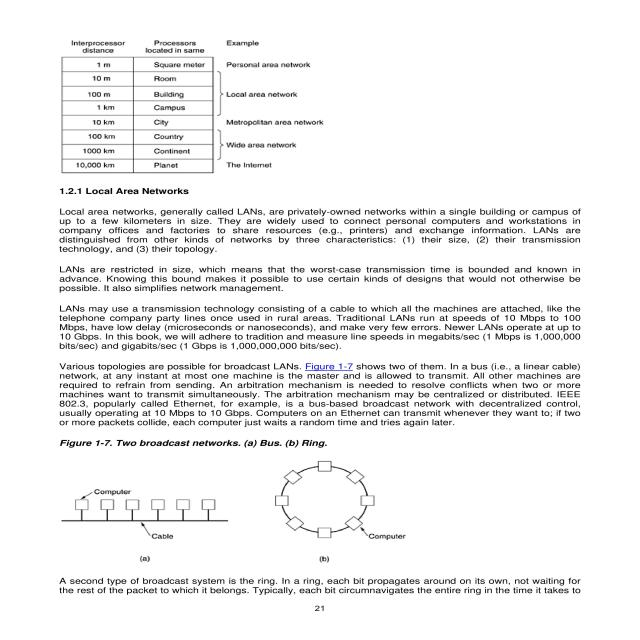diagram: (57, 432, 424, 577)
